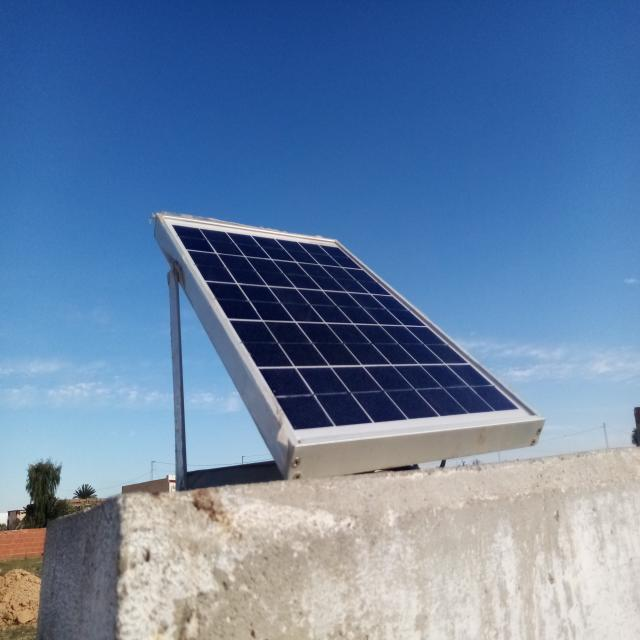no faulty: (157, 214, 544, 444)
